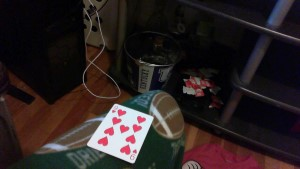NineOfHearts: (84, 102, 154, 164)
